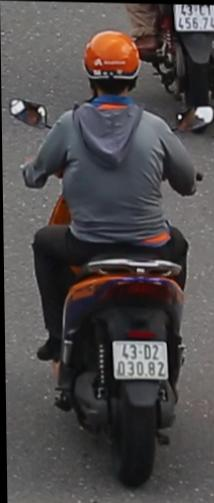LP: (110, 334, 169, 381)
helmet: (82, 25, 141, 101)
